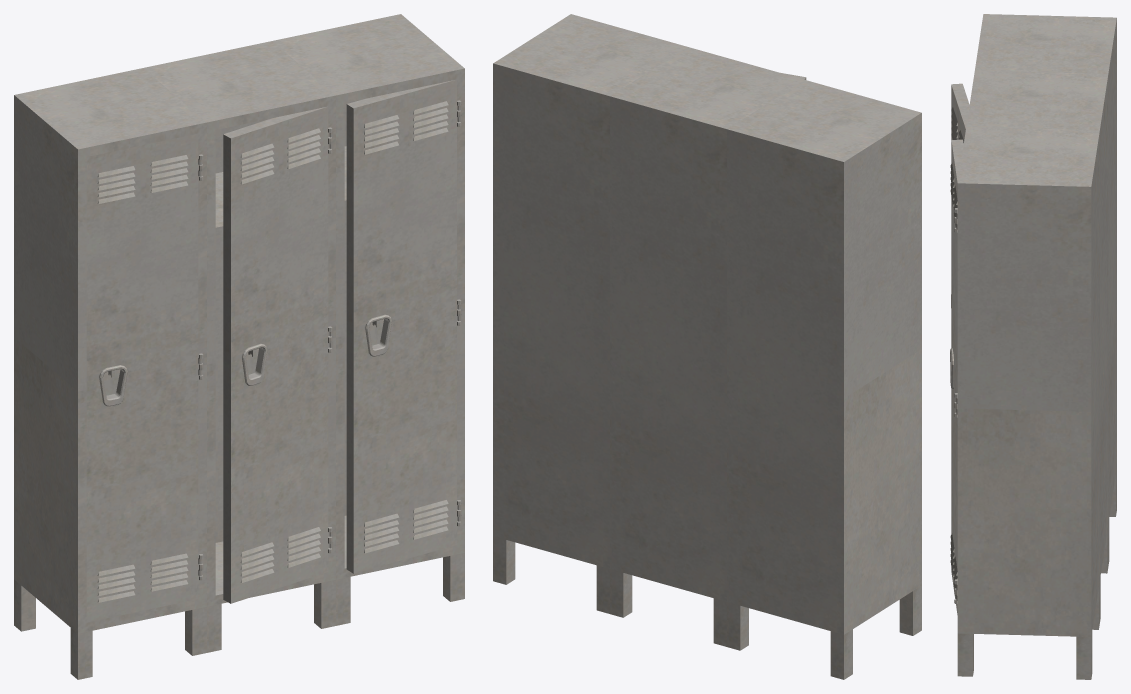
The model's file is School_Locker01.fbx.
3 renders of one model, left to right at view 1: azimuth 30°, elevation 25°; view 2: azimuth 150°, elevation 25°; view 3: azimuth 270°, elevation 25°, orthographic. The views are drawn at different scales.
Parts seen in each view (by area): view 1: ItemBox_Locker_01; view 2: ItemBox_Locker_01; view 3: ItemBox_Locker_01.
Boxes of the visible parts, x1,y1,x2,y2 form: ItemBox_Locker_01: (14,14,464,679); ItemBox_Locker_01: (493,14,921,679); ItemBox_Locker_01: (950,14,1116,679).
Bounding box in the file's own units: 179 × 238 × 72.89.
Materials: 1 (1 with a texture image).
